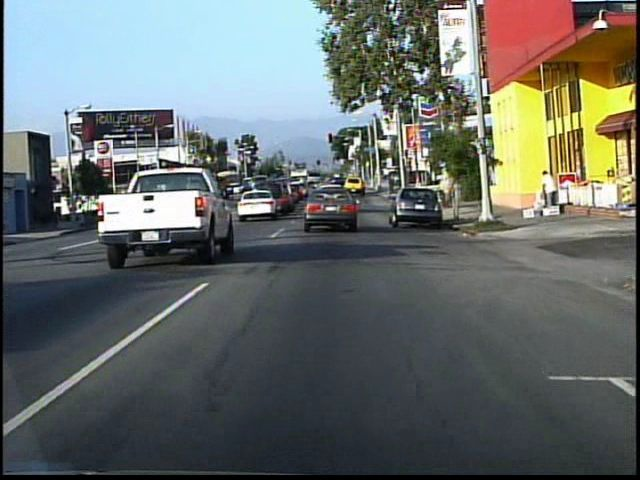person: (535, 165, 558, 209)
